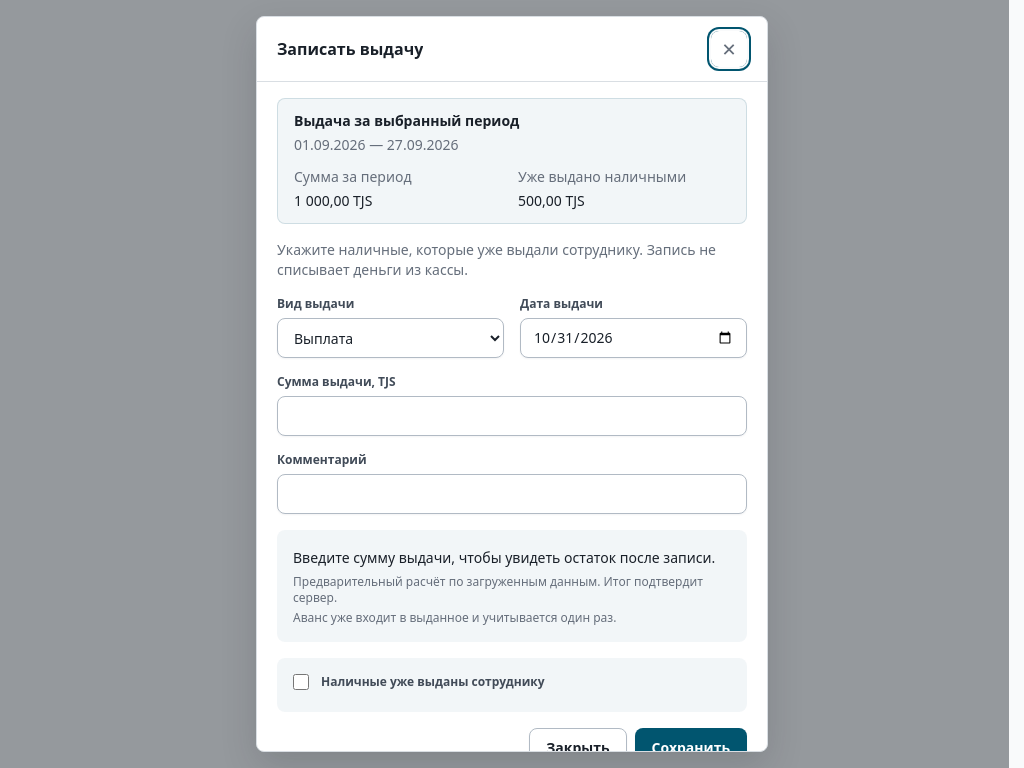
Scenario: manual salary commands › rejects zero cash payment without sending a command
Type "0" into the field labelled "Сумма выдачи, TJS" at (512, 416), box [277, 396, 747, 436]
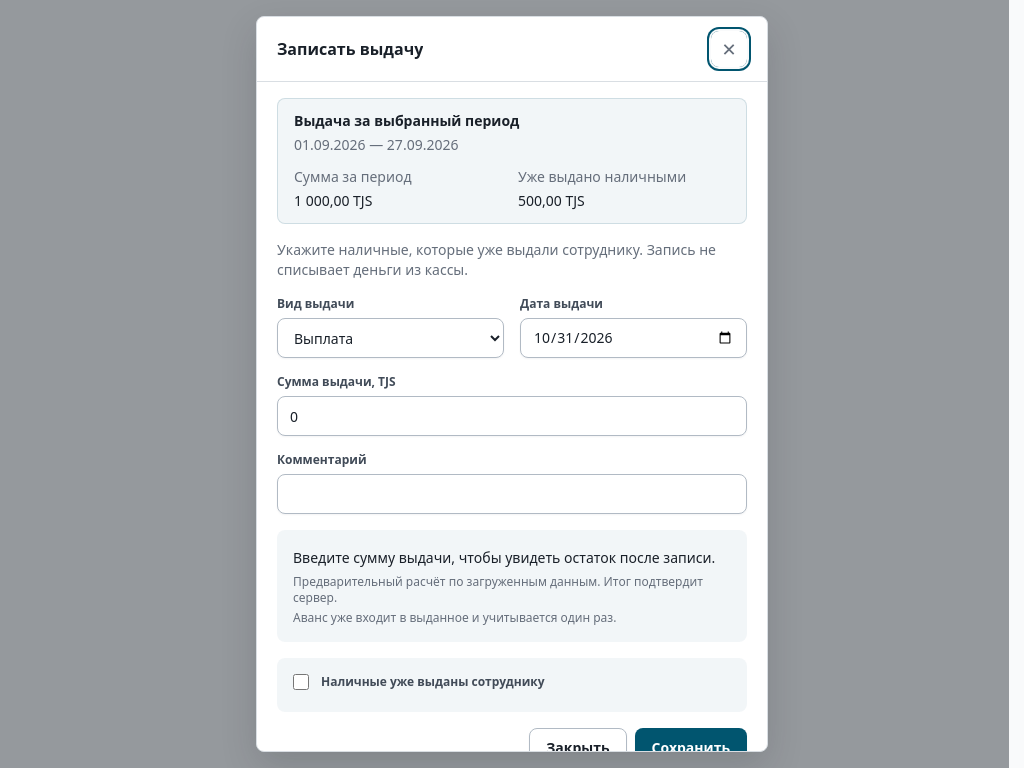
Click the checkbox labelled "Наличные уже выданы сотруднику" at (301, 682), box [293, 674, 309, 690]
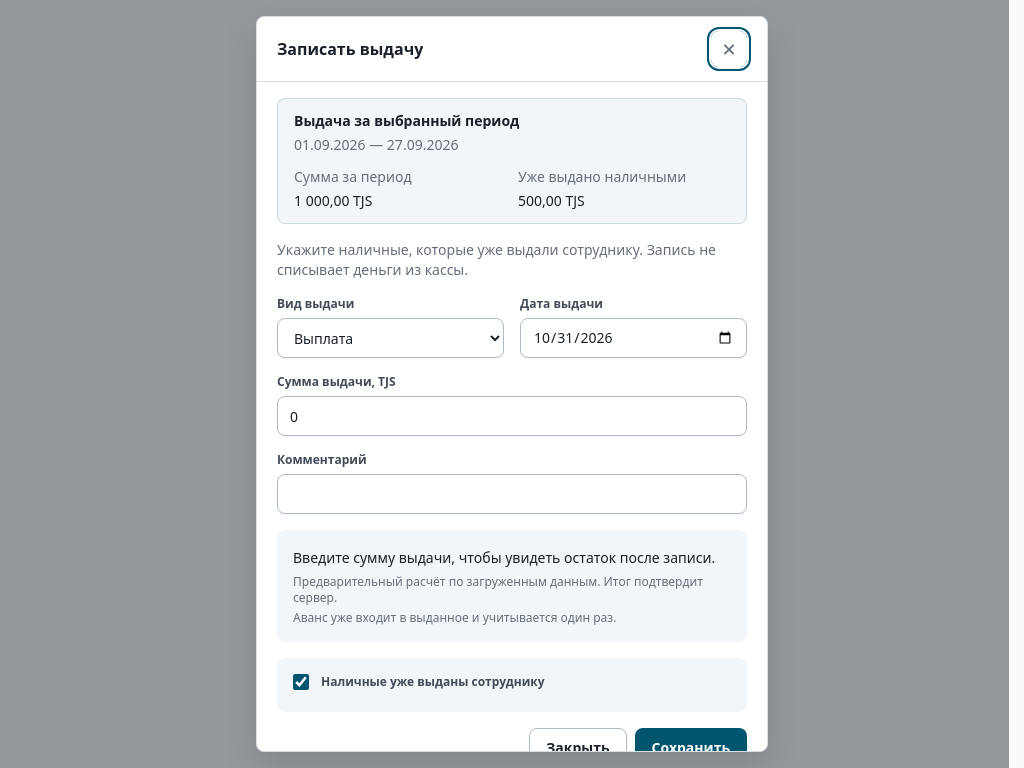
Click the button "Сохранить" at (691, 748), box [635, 728, 747, 767]
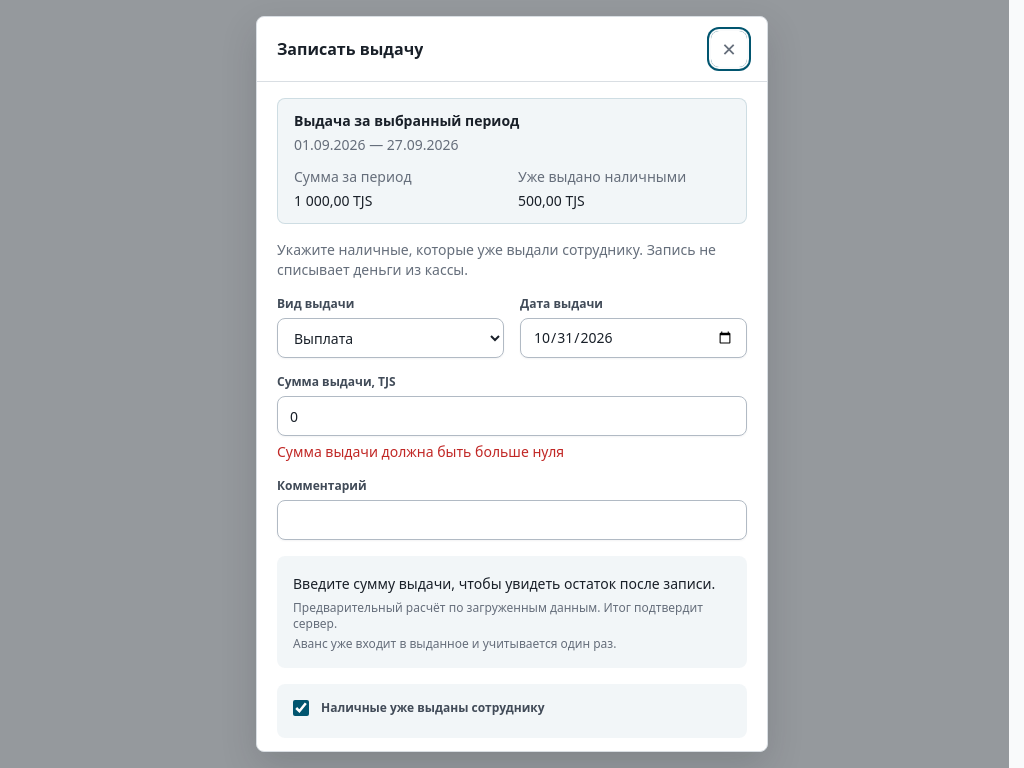
Expected: the text "Сумма выдачи должна быть больше нуля" is shown, [277, 442, 564, 461]
